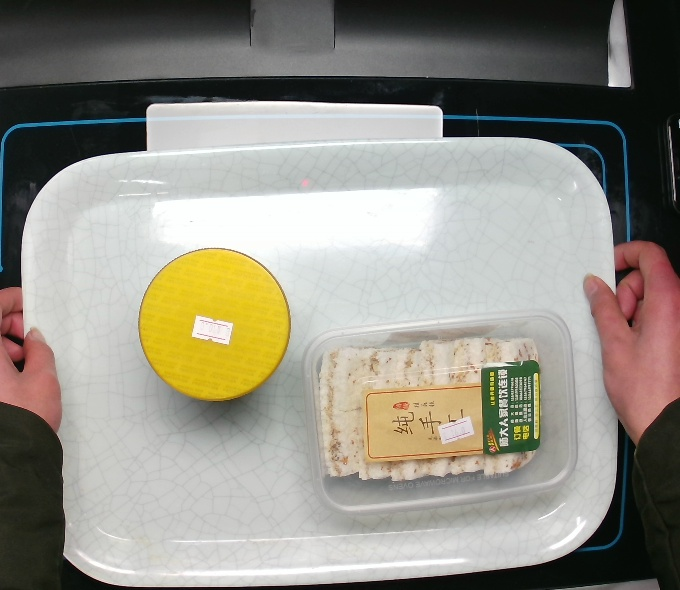wcq-GuiHuaGao: (300, 305, 583, 521)
wcq-MaiYaTang: (135, 244, 294, 404)
